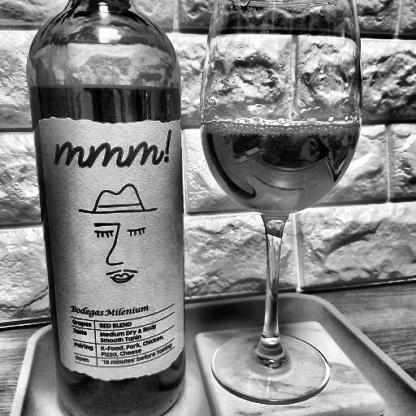umm: (39, 113, 183, 382)
